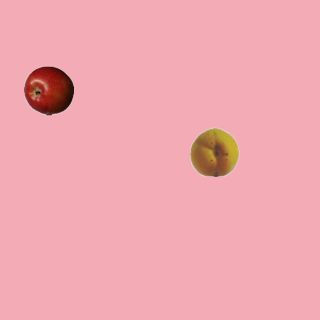Apple Braeburn: (23, 65, 73, 115)
Peach 2: (189, 126, 239, 176)
